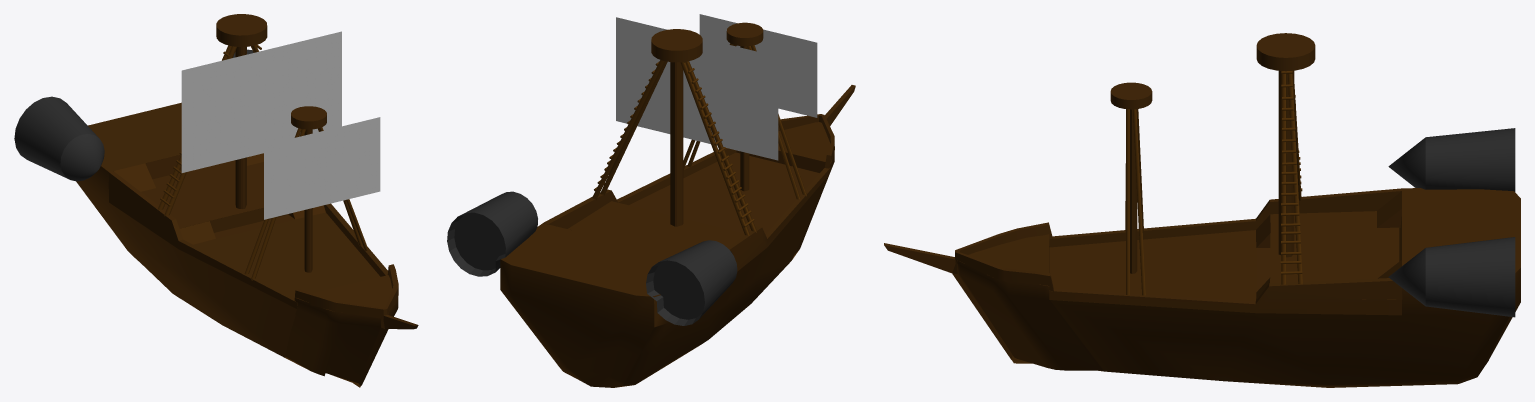
File: ship.fbx
3 views of the same model, side by side, from view 1: azimuth 30°, elevation 25°; view 2: azimuth 150°, elevation 25°; view 3: azimuth 270°, elevation 25° (orthographic). The views are drawn at different scales.
Visible parts, largest first — view 1: boatBase, pPlane2, pPlane3, Rocket21, pCylinder2, pCube2, pCylinder4, pCylinder1, pCube4, pCylinder3, pPipe48; view 2: boatBase, pPlane2, Rocket21, Rocket4, pPlane3, pCylinder1, pCylinder2, pPipe3, pPipe2, pPipe4, pCylinder4, pCube2 (+3 smaller); view 3: boatBase, Rocket4, Rocket21, pCube2, pCylinder2, pCylinder1, pCylinder3, pPipe1, pCylinder4, pPipe2, pPipe45, pPipe46 (+1 smaller).
Boxes of the visible parts, left/top/right/bottom form: boatBase: left=76, top=102, right=418, bottom=387; pPlane2: left=181, top=31, right=341, bottom=172; pPlane3: left=264, top=117, right=380, bottom=219; Rocket21: left=14, top=96, right=104, bottom=181; pCylinder2: left=216, top=14, right=267, bottom=46; pCube2: left=294, top=264, right=398, bottom=318; pCylinder4: left=291, top=106, right=326, bottom=129; pCylinder1: left=235, top=47, right=246, bottom=208; pCube4: left=113, top=163, right=155, bottom=191; pCylinder3: left=304, top=129, right=312, bottom=272; pPipe48: left=251, top=129, right=305, bottom=280; boatBase: left=500, top=85, right=855, bottom=387; pPlane2: left=616, top=17, right=778, bottom=160; Rocket21: left=646, top=240, right=737, bottom=325; Rocket4: left=447, top=191, right=537, bottom=276; pPlane3: left=699, top=14, right=817, bottom=117; pCylinder1: left=670, top=62, right=683, bottom=226; pCylinder2: left=651, top=29, right=702, bottom=62; pPipe3: left=680, top=62, right=749, bottom=235; pPipe2: left=592, top=60, right=664, bottom=199; pPipe4: left=686, top=61, right=756, bottom=232; pCylinder4: left=726, top=22, right=763, bottom=46; pCube2: left=778, top=114, right=834, bottom=168; boatBase: left=884, top=188, right=1520, bottom=387; Rocket4: left=1388, top=237, right=1515, bottom=317; Rocket21: left=1388, top=128, right=1515, bottom=191; pCube2: left=955, top=222, right=1053, bottom=292; pCylinder2: left=1256, top=33, right=1315, bottom=71; pCylinder1: left=1278, top=70, right=1294, bottom=257; pCylinder3: left=1130, top=109, right=1137, bottom=273; pPipe1: left=1281, top=71, right=1286, bottom=284; pCylinder4: left=1110, top=82, right=1152, bottom=109; pPipe2: left=1287, top=73, right=1302, bottom=283; pPipe45: left=1133, top=109, right=1145, bottom=295; pPipe46: left=1126, top=109, right=1129, bottom=295.
Size of the model in its own units: 11.49 by 12.08 by 21.61.
